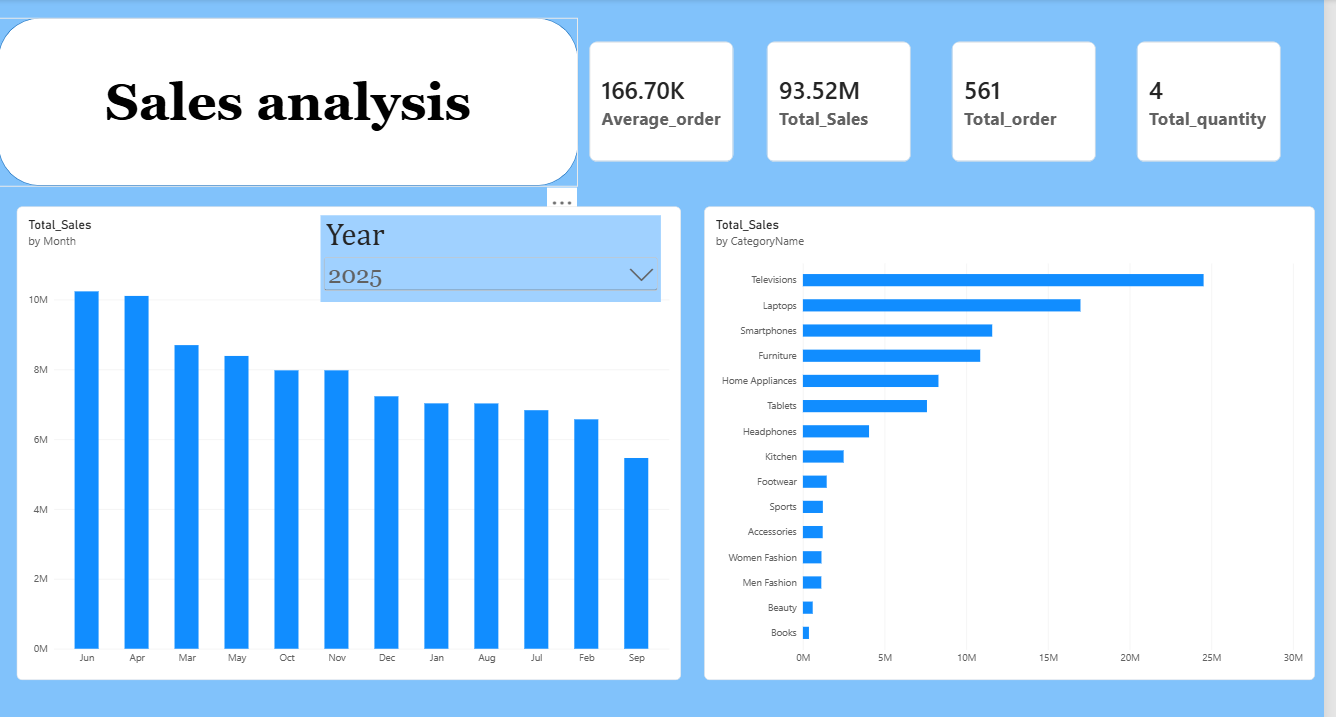

This screenshot's page, from the dashboard's own definition file:
{"tool":"powerbi","page":{"name":"Sales Analysis","canvas":[1920,1080],"ordinal":1},"visuals":[{"type":"cardVisual","fields":{"Data":["OrderItems.Total_Sales"]},"box":[1112.7,61.8,209.1,174.5],"z":0},{"type":"cardVisual","fields":{"Data":["OrderItems.Total_order"]},"box":[1380,61.8,209.1,174.5],"z":1000},{"type":"cardVisual","fields":{"Data":["OrderItems.Average_order"]},"box":[856.4,61.8,209.1,174.5],"z":2000},{"type":"cardVisual","fields":{"Data":["OrderItems.Total_quantity"]},"box":[1649.1,61.8,209.1,174.5],"z":3000},{"type":"shape","box":[0,27.3,840,243.6],"z":4000},{"type":"clusteredColumnChart","fields":{"Category":["DimDate.Month"],"Y":["OrderItems.Total_Sales"]},"box":[27.3,300,961.8,685.5],"z":5000},{"type":"slicer","fields":{"Values":["DimDate.Year"]},"box":[467.3,312.7,492.7,125.5],"z":6000},{"type":"clusteredBarChart","fields":{"Category":["Categories.CategoryName"],"Y":["OrderItems.Total_Sales"]},"box":[1021.8,300,883.6,685.5],"z":7000}]}

Visuals, with their boxes on the page's 1920x1080 design canvas (x1, y1, x2, y2). These are canvas units, not pixel positions in the 1336x717 screenshot, which may show the page scaled, cropped or inside an application window:
cardVisual - OrderItems.Total_Sales: 1113:62:1322:236
cardVisual - OrderItems.Total_order: 1380:62:1589:236
cardVisual - OrderItems.Average_order: 856:62:1066:236
cardVisual - OrderItems.Total_quantity: 1649:62:1858:236
shape: 0:27:840:271
clusteredColumnChart - DimDate.Month x OrderItems.Total_Sales: 27:300:989:986
slicer - DimDate.Year: 467:313:960:438
clusteredBarChart - Categories.CategoryName x OrderItems.Total_Sales: 1022:300:1905:986
